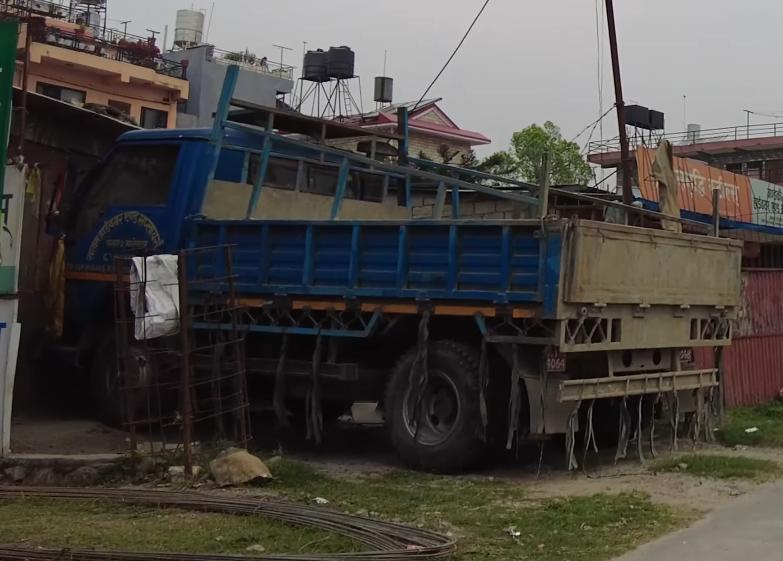mini_truck: (38, 94, 748, 474)
